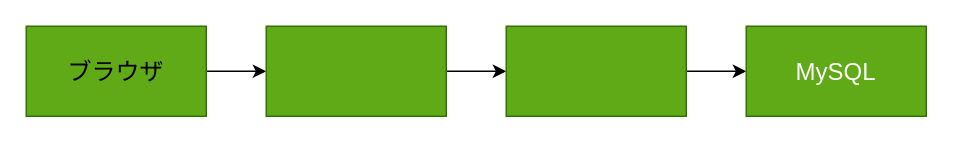
This 953x143 diagram has some shape labels left out. The shapes that lost their labels are listed below. From the top down, each one's box as (x1, y1, x2, y2) in pixels, then its label:
(265, 25, 446, 116): フロントエンド Rails View
(505, 25, 686, 116): バックエンド Rails
